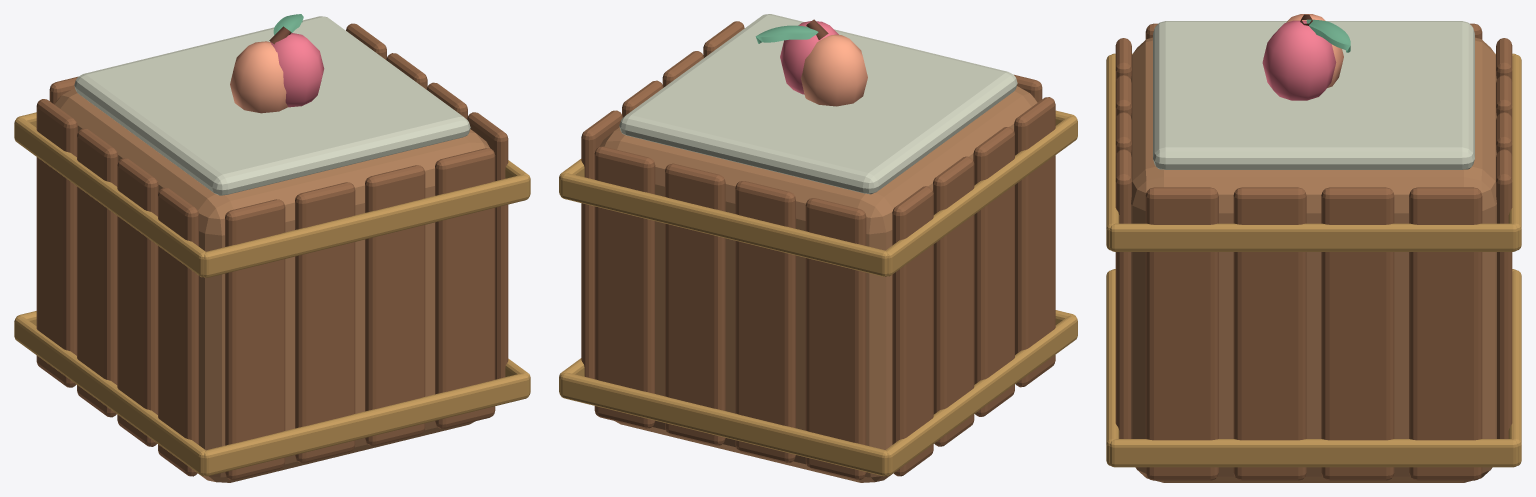
Rendered from heaven_crate.glb.
3 views of the same model, side by side, from view 1: azimuth 30°, elevation 25°; view 2: azimuth 150°, elevation 25°; view 3: azimuth 270°, elevation 25° (orthographic). The views are drawn at different scales.
Parts seen in each view (by area): view 1: Merged Bark warm ridges, Merged Worn ivory stepping stone, Merged Aged warm brass, Merged Peachwood crate, Merged Peach warm fruit, Merged Peach blushing cheek; view 2: Merged Bark warm ridges, Merged Worn ivory stepping stone, Merged Aged warm brass, Merged Peachwood crate, Merged Peach warm fruit, Merged Peach blushing cheek, Merged Peach leaf celadon; view 3: Merged Bark warm ridges, Merged Worn ivory stepping stone, Merged Peachwood crate, Merged Aged warm brass, Merged Peach blushing cheek, Merged Peach leaf celadon, Merged Peach warm fruit.
Boxes of the visible parts, left/top/right/bottom form: Merged Bark warm ridges: left=36, top=23, right=508, bottom=479; Merged Worn ivory stepping stone: left=74, top=16, right=470, bottom=195; Merged Aged warm brass: left=14, top=112, right=530, bottom=476; Merged Peachwood crate: left=54, top=88, right=490, bottom=482; Merged Peach warm fruit: left=230, top=41, right=287, bottom=113; Merged Peach blushing cheek: left=270, top=33, right=324, bottom=107; Merged Bark warm ridges: left=581, top=21, right=1055, bottom=479; Merged Worn ivory stepping stone: left=619, top=14, right=1017, bottom=194; Merged Aged warm brass: left=559, top=110, right=1077, bottom=476; Merged Peachwood crate: left=599, top=86, right=1037, bottom=482; Merged Peach warm fruit: left=801, top=34, right=867, bottom=106; Merged Peach blushing cheek: left=780, top=21, right=838, bottom=94; Merged Peach leaf celadon: left=755, top=25, right=818, bottom=43; Merged Bark warm ridges: left=1115, top=23, right=1512, bottom=480; Merged Worn ivory stepping stone: left=1153, top=21, right=1474, bottom=169; Merged Peachwood crate: left=1131, top=37, right=1496, bottom=482; Merged Aged warm brass: left=1106, top=53, right=1521, bottom=467; Merged Peach blushing cheek: left=1262, top=20, right=1336, bottom=100; Merged Peach leaf celadon: left=1306, top=19, right=1350, bottom=52; Merged Peach warm fruit: left=1286, top=14, right=1343, bottom=87.
Bounding box in the file's own units: 1.13 × 1.23 × 1.13.
